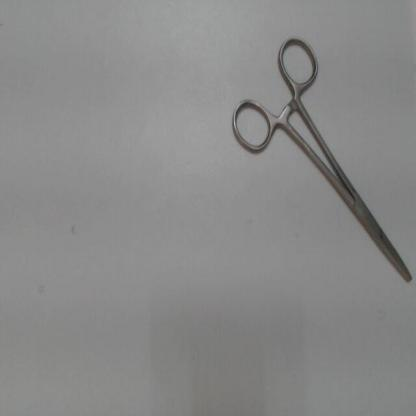Mayo Needle Holder: (224, 27, 416, 296)
